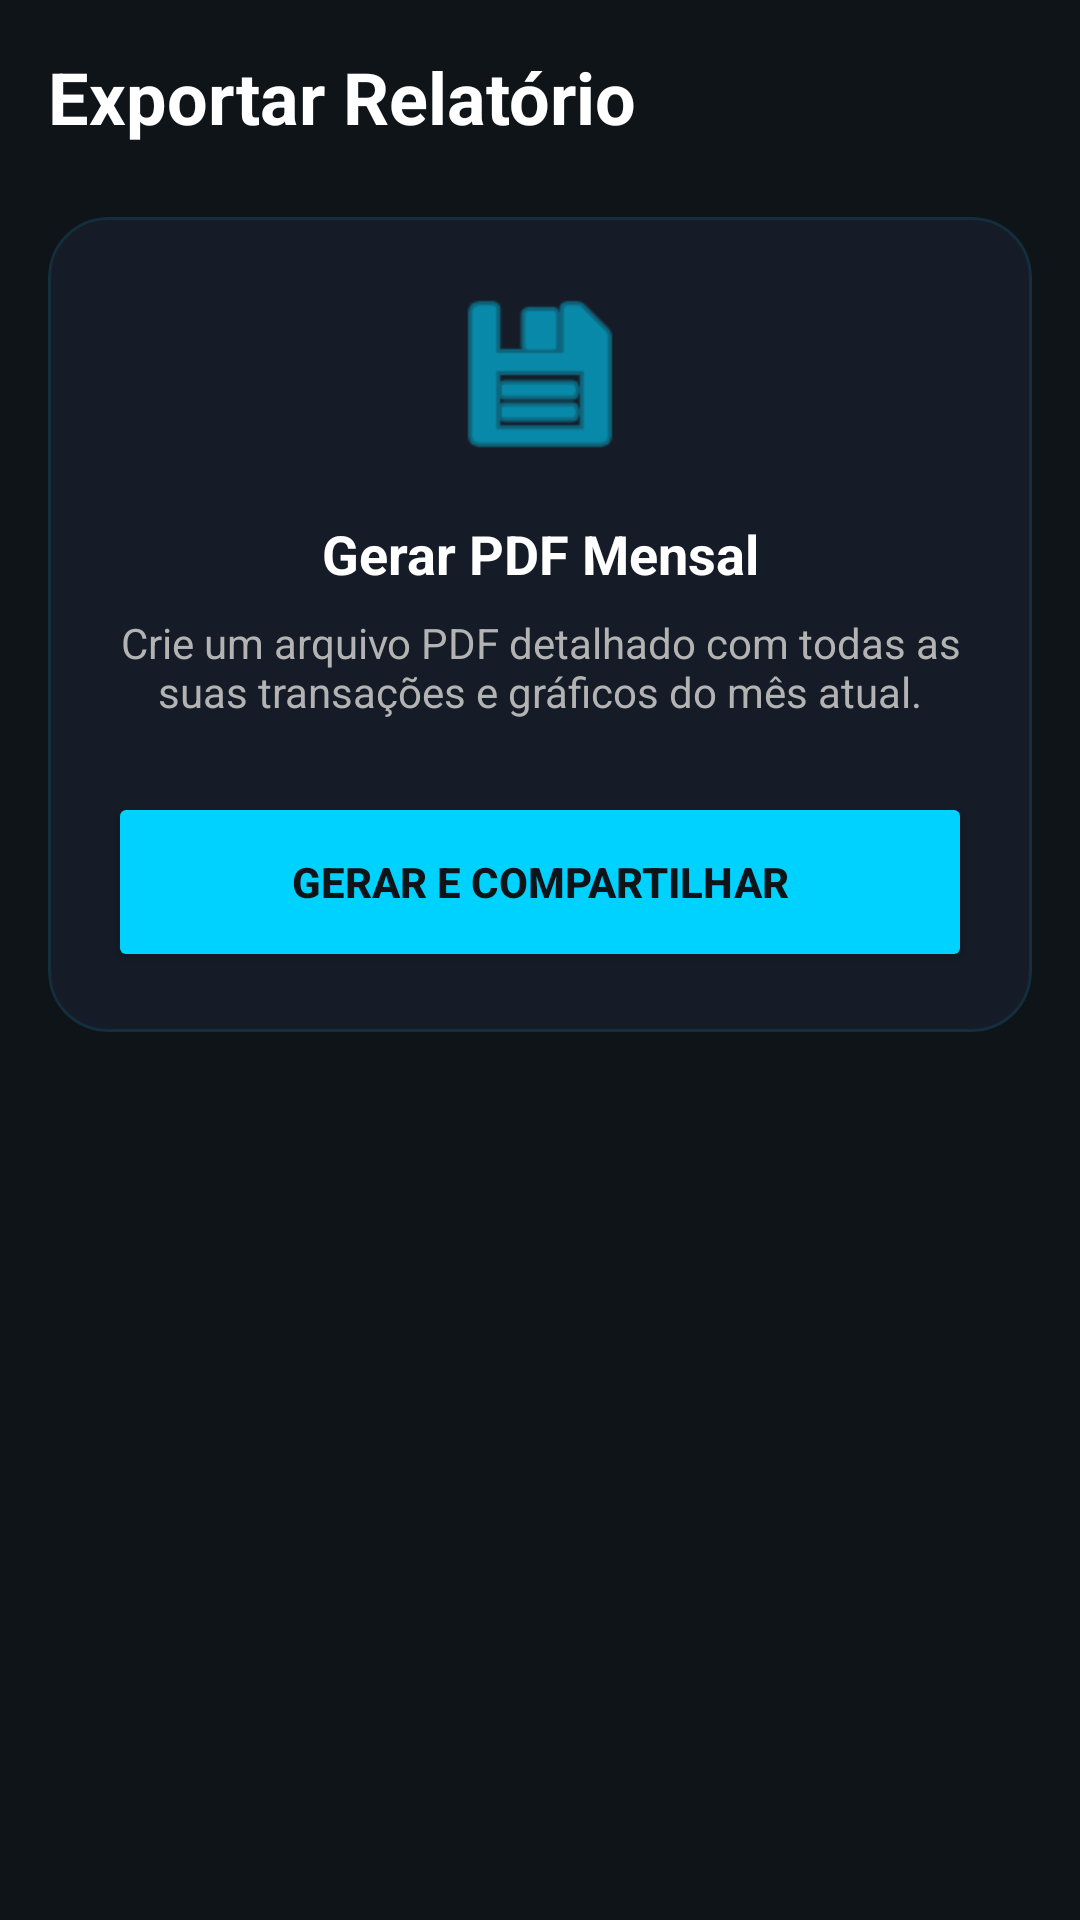

Screen size 1080x1920. Icon name, then its center in pixels as point (x, y):
save: point (540, 374)
